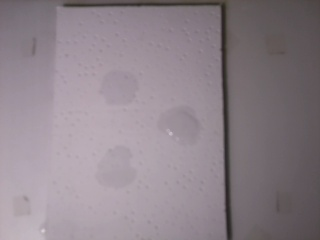Water_detected: (99, 152, 139, 191), (100, 71, 135, 102), (169, 101, 199, 135)
